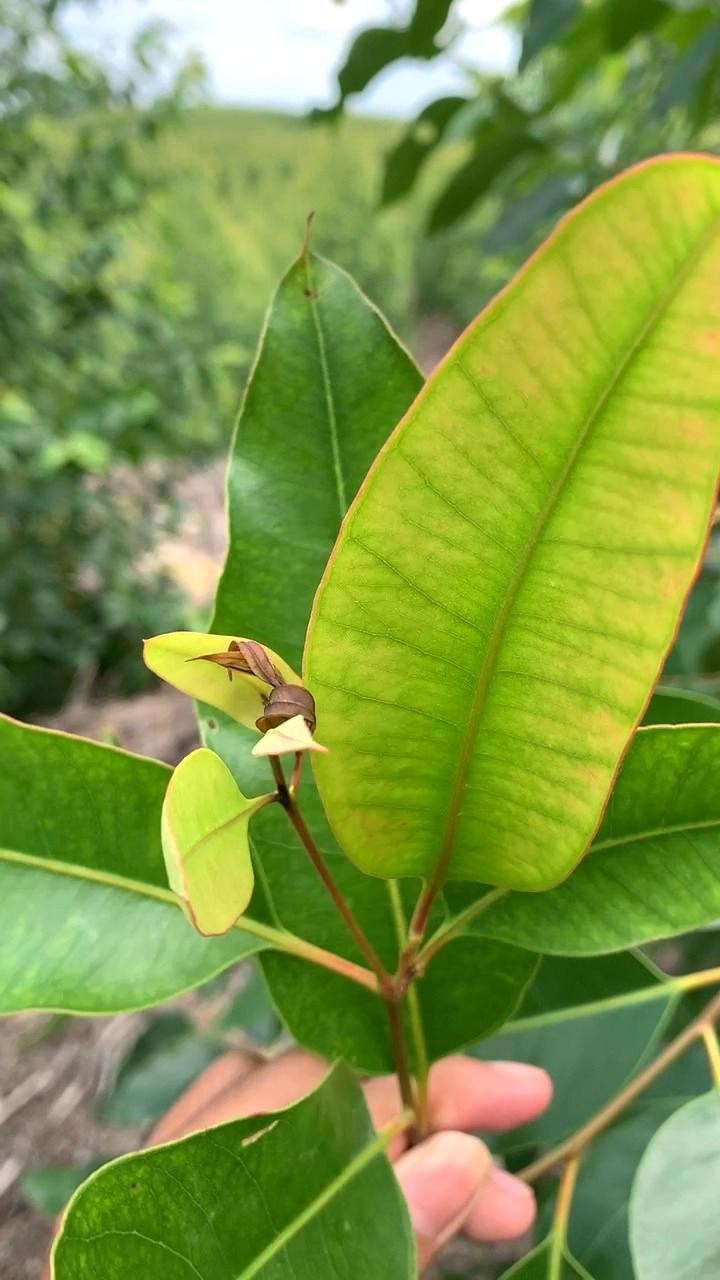Helopeltis-Withered Sprout: (196, 621, 341, 765)
